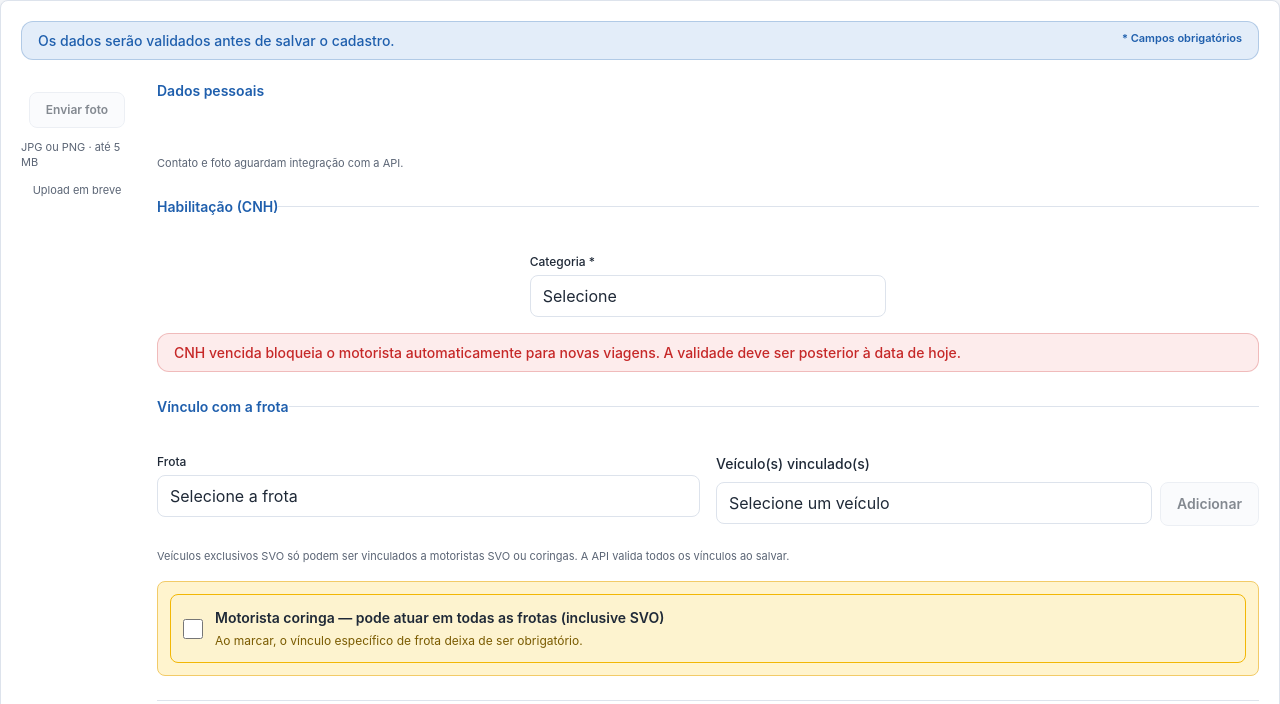
mantém o vínculo ao trocar a frota e avisa que deve ser removido
This screenshot has width=1280, height=704.
Select "SVO" in the dropdown labelled "Frota": (428, 496) [157,475,700,517]
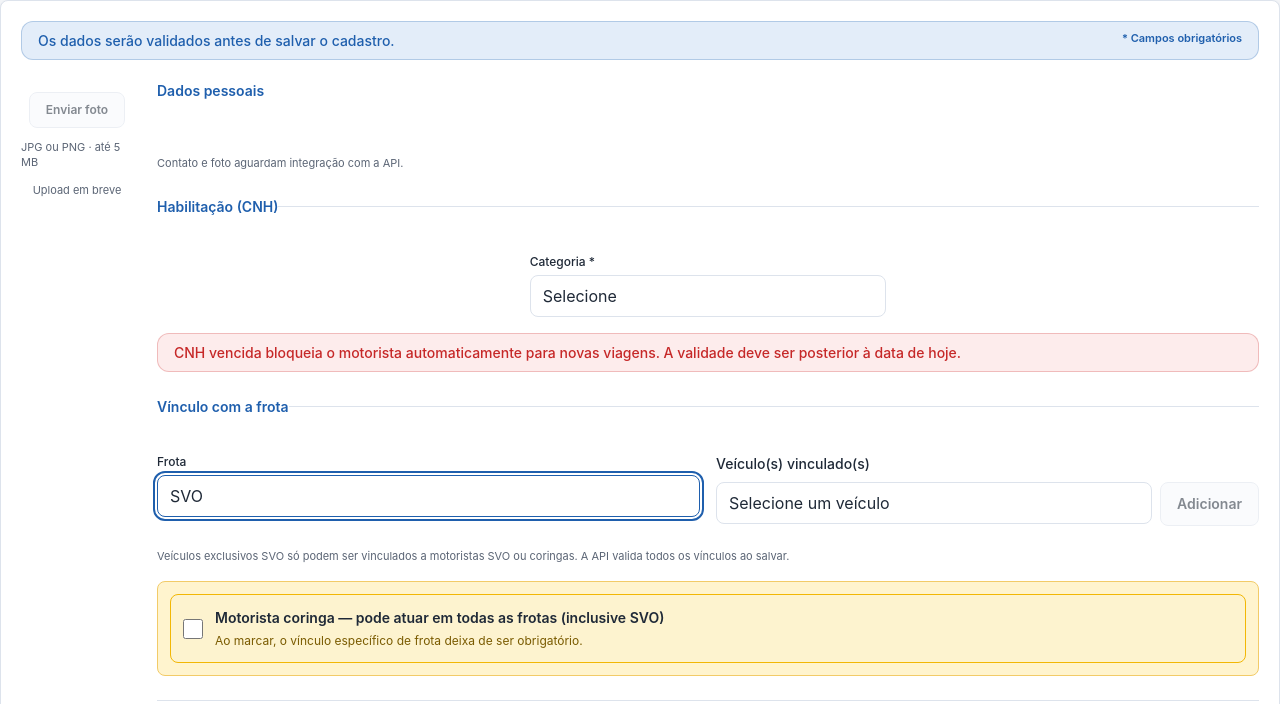
Select "SVO0A01" in the dropdown named "Escolher veículo": (934, 503) [716,482,1152,524]
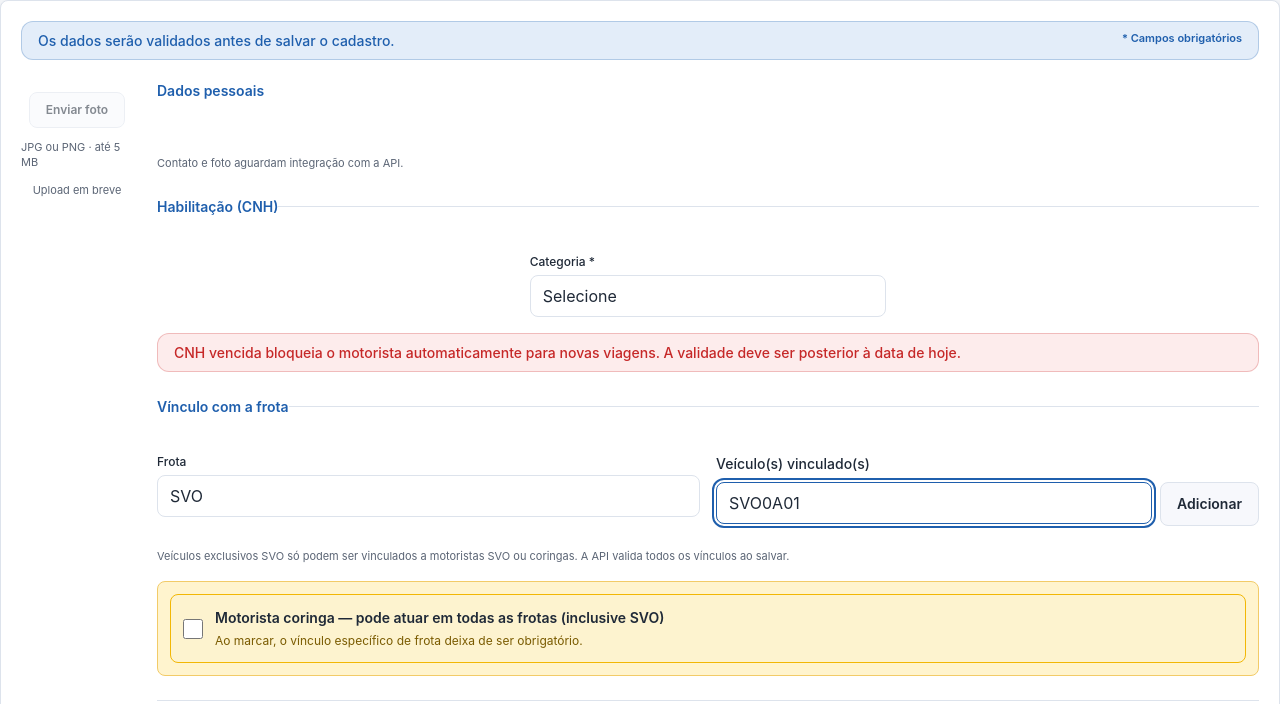
Click the button "Adicionar": (1210, 504) [1160,482,1259,526]
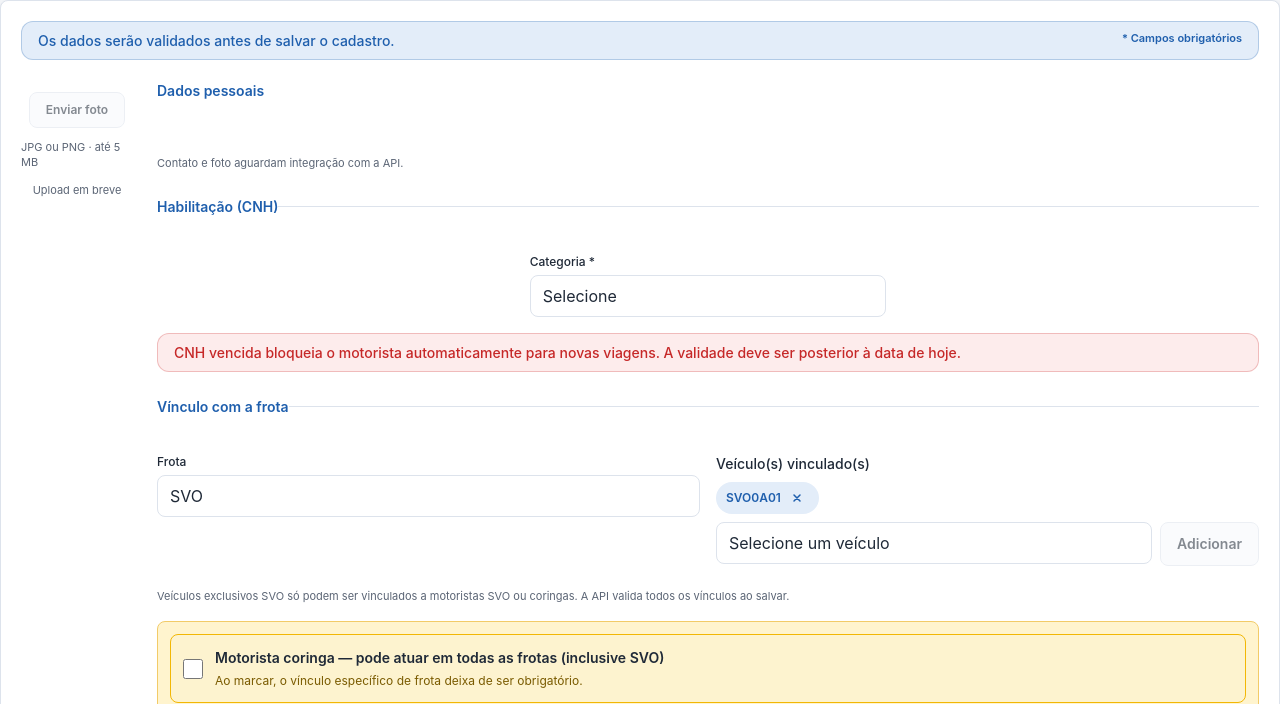
Select "Administrativa" in the dropdown labelled "Frota": (428, 496) [157,475,700,517]
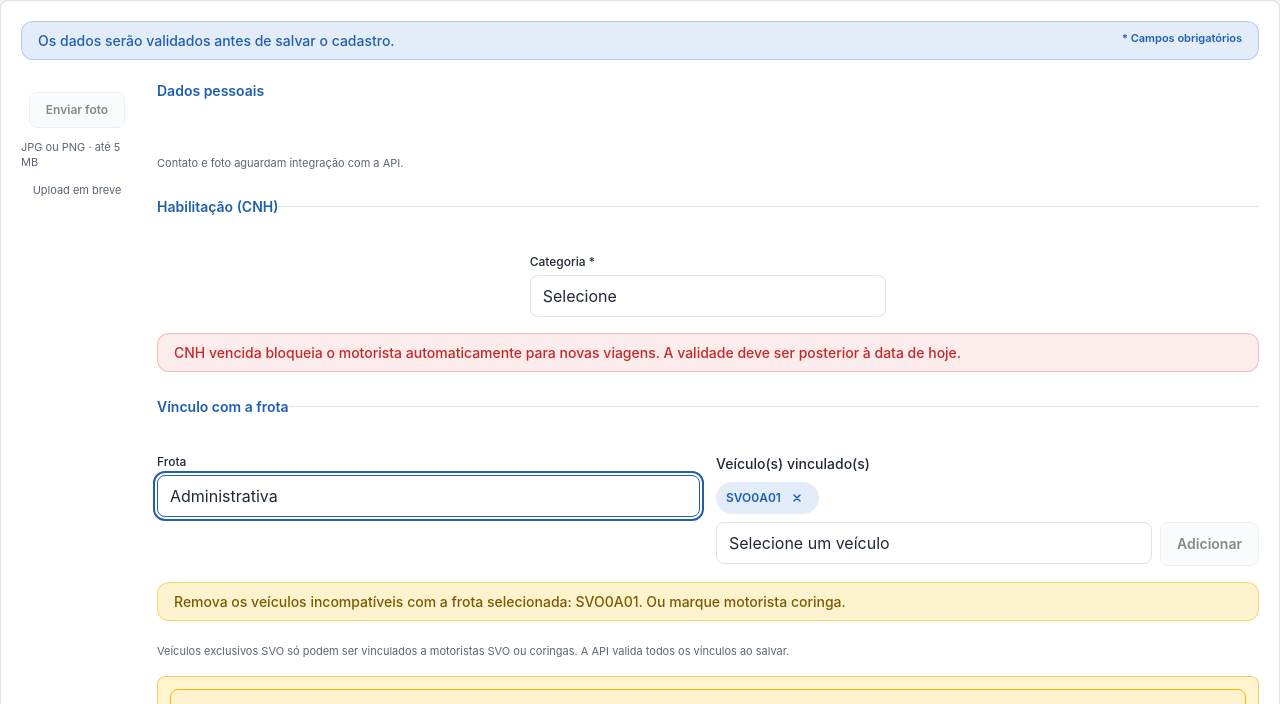
Expected: the button named "Remover SVO0A01" is shown, [785,486,809,510]
Expected: the text "Remova os veículos incompatíveis" is shown, [174,593,572,610]
